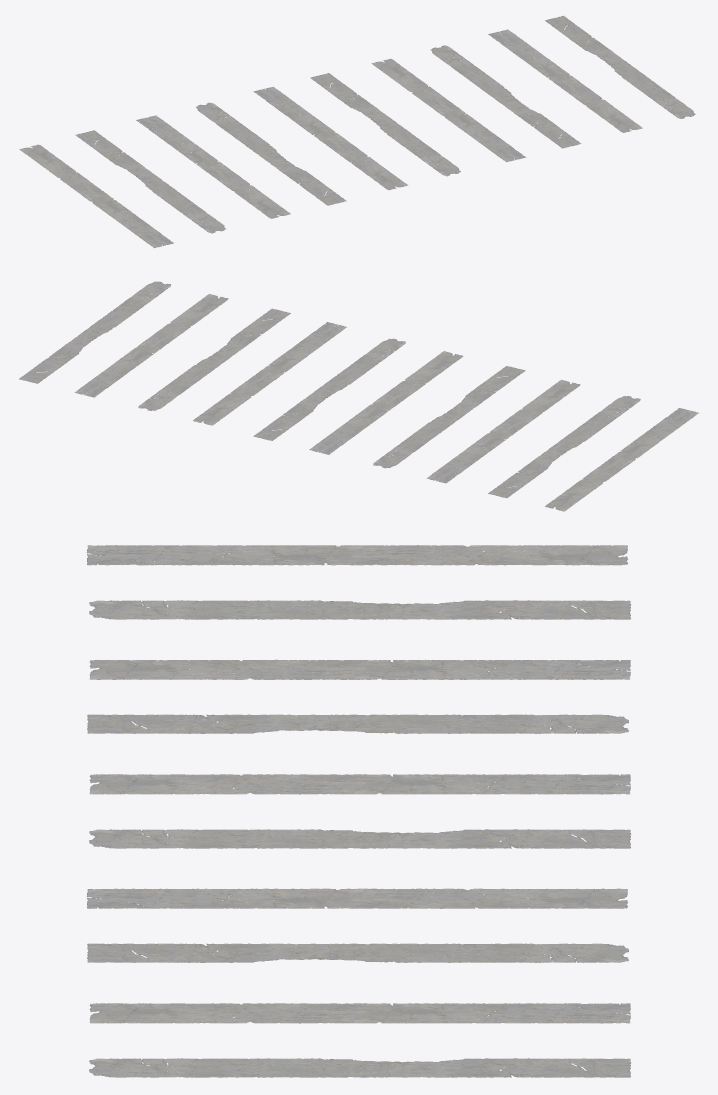
Rendered from Road_Marking_02.fbx.
The picture shows the model from 3 angles, top to bottom: view 1: azimuth 30°, elevation 25°; view 2: azimuth 150°, elevation 25°; view 3: azimuth 270°, elevation 25°; orthographic projection. The views are drawn at different scales.
Parts seen in each view (by area): view 1: Road_Marking_02; view 2: Road_Marking_02; view 3: Road_Marking_02.
Part boxes in pixels (x1=…): Road_Marking_02: x1=19, y1=15, x2=695, y2=248; Road_Marking_02: x1=19, y1=281, x2=698, y2=511; Road_Marking_02: x1=86, y1=545, x2=630, y2=1077.
Size of the model in its own units: 662 by 0 by 287.
